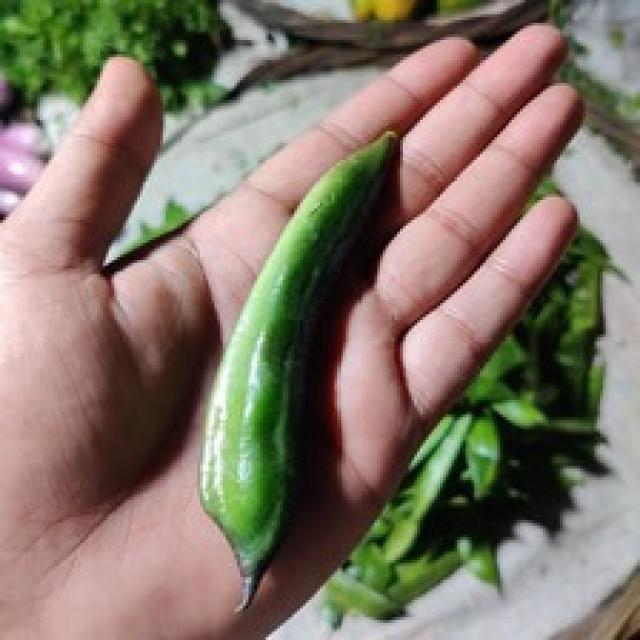Bean: (194, 126, 397, 611)
